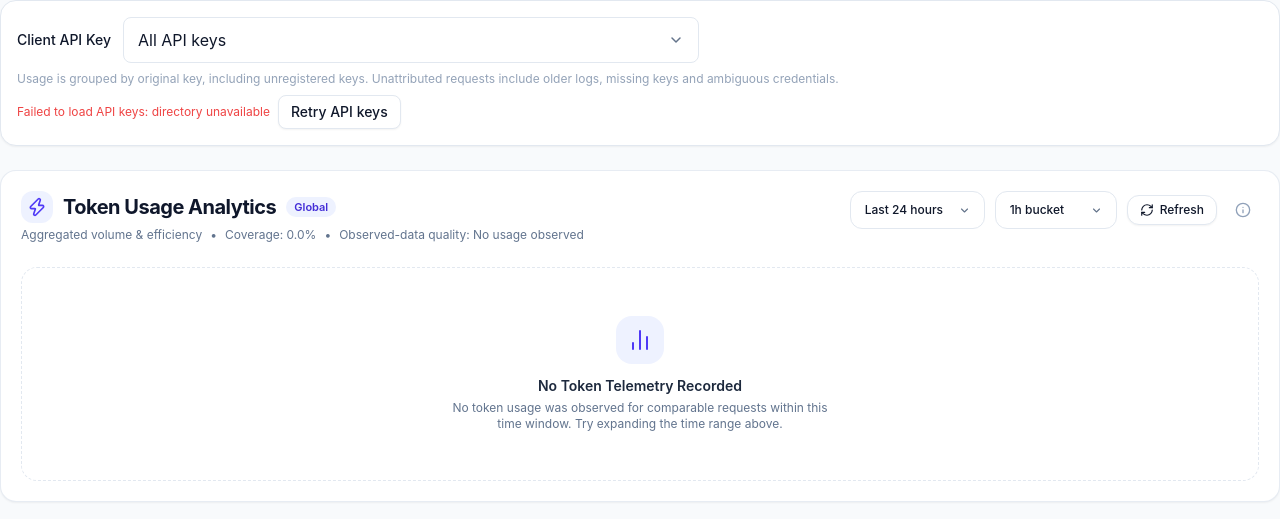
Test case: TokenUsage › keeps global analytics usable when the key directory fails and retries the directory
Expected: the text "Failed to load API keys: directory unavailable" is shown, [17,104,270,120]
Expected: the heading "No Token Telemetry Recorded" is shown, [538,377,742,394]
Click the button "Retry API keys". click: x=339, y=112
box: [278,95,401,129]
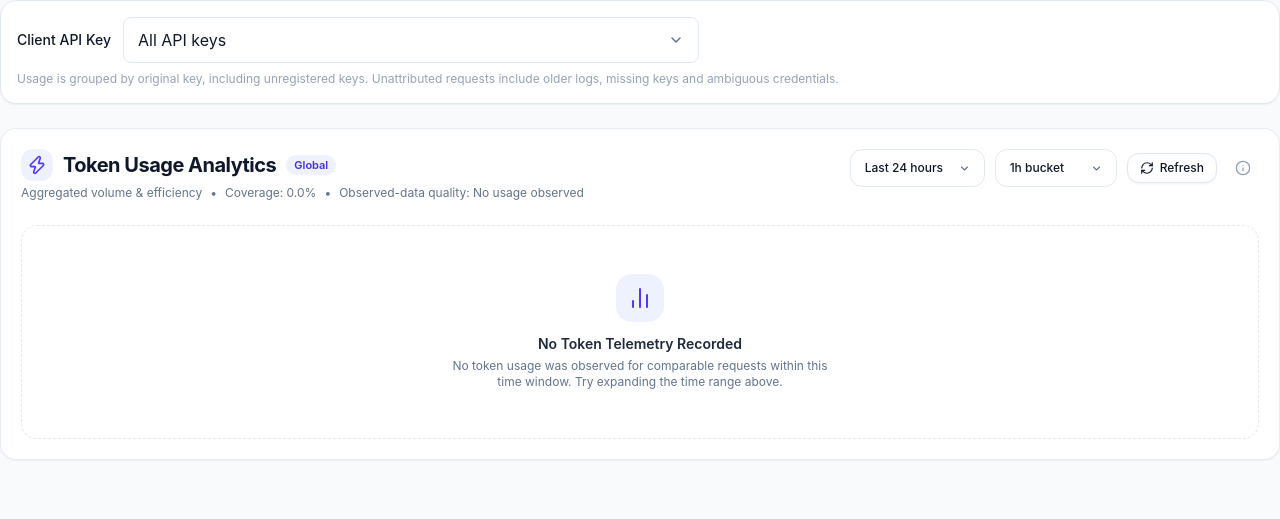
Expected: the text "Failed to load API keys" is gone
